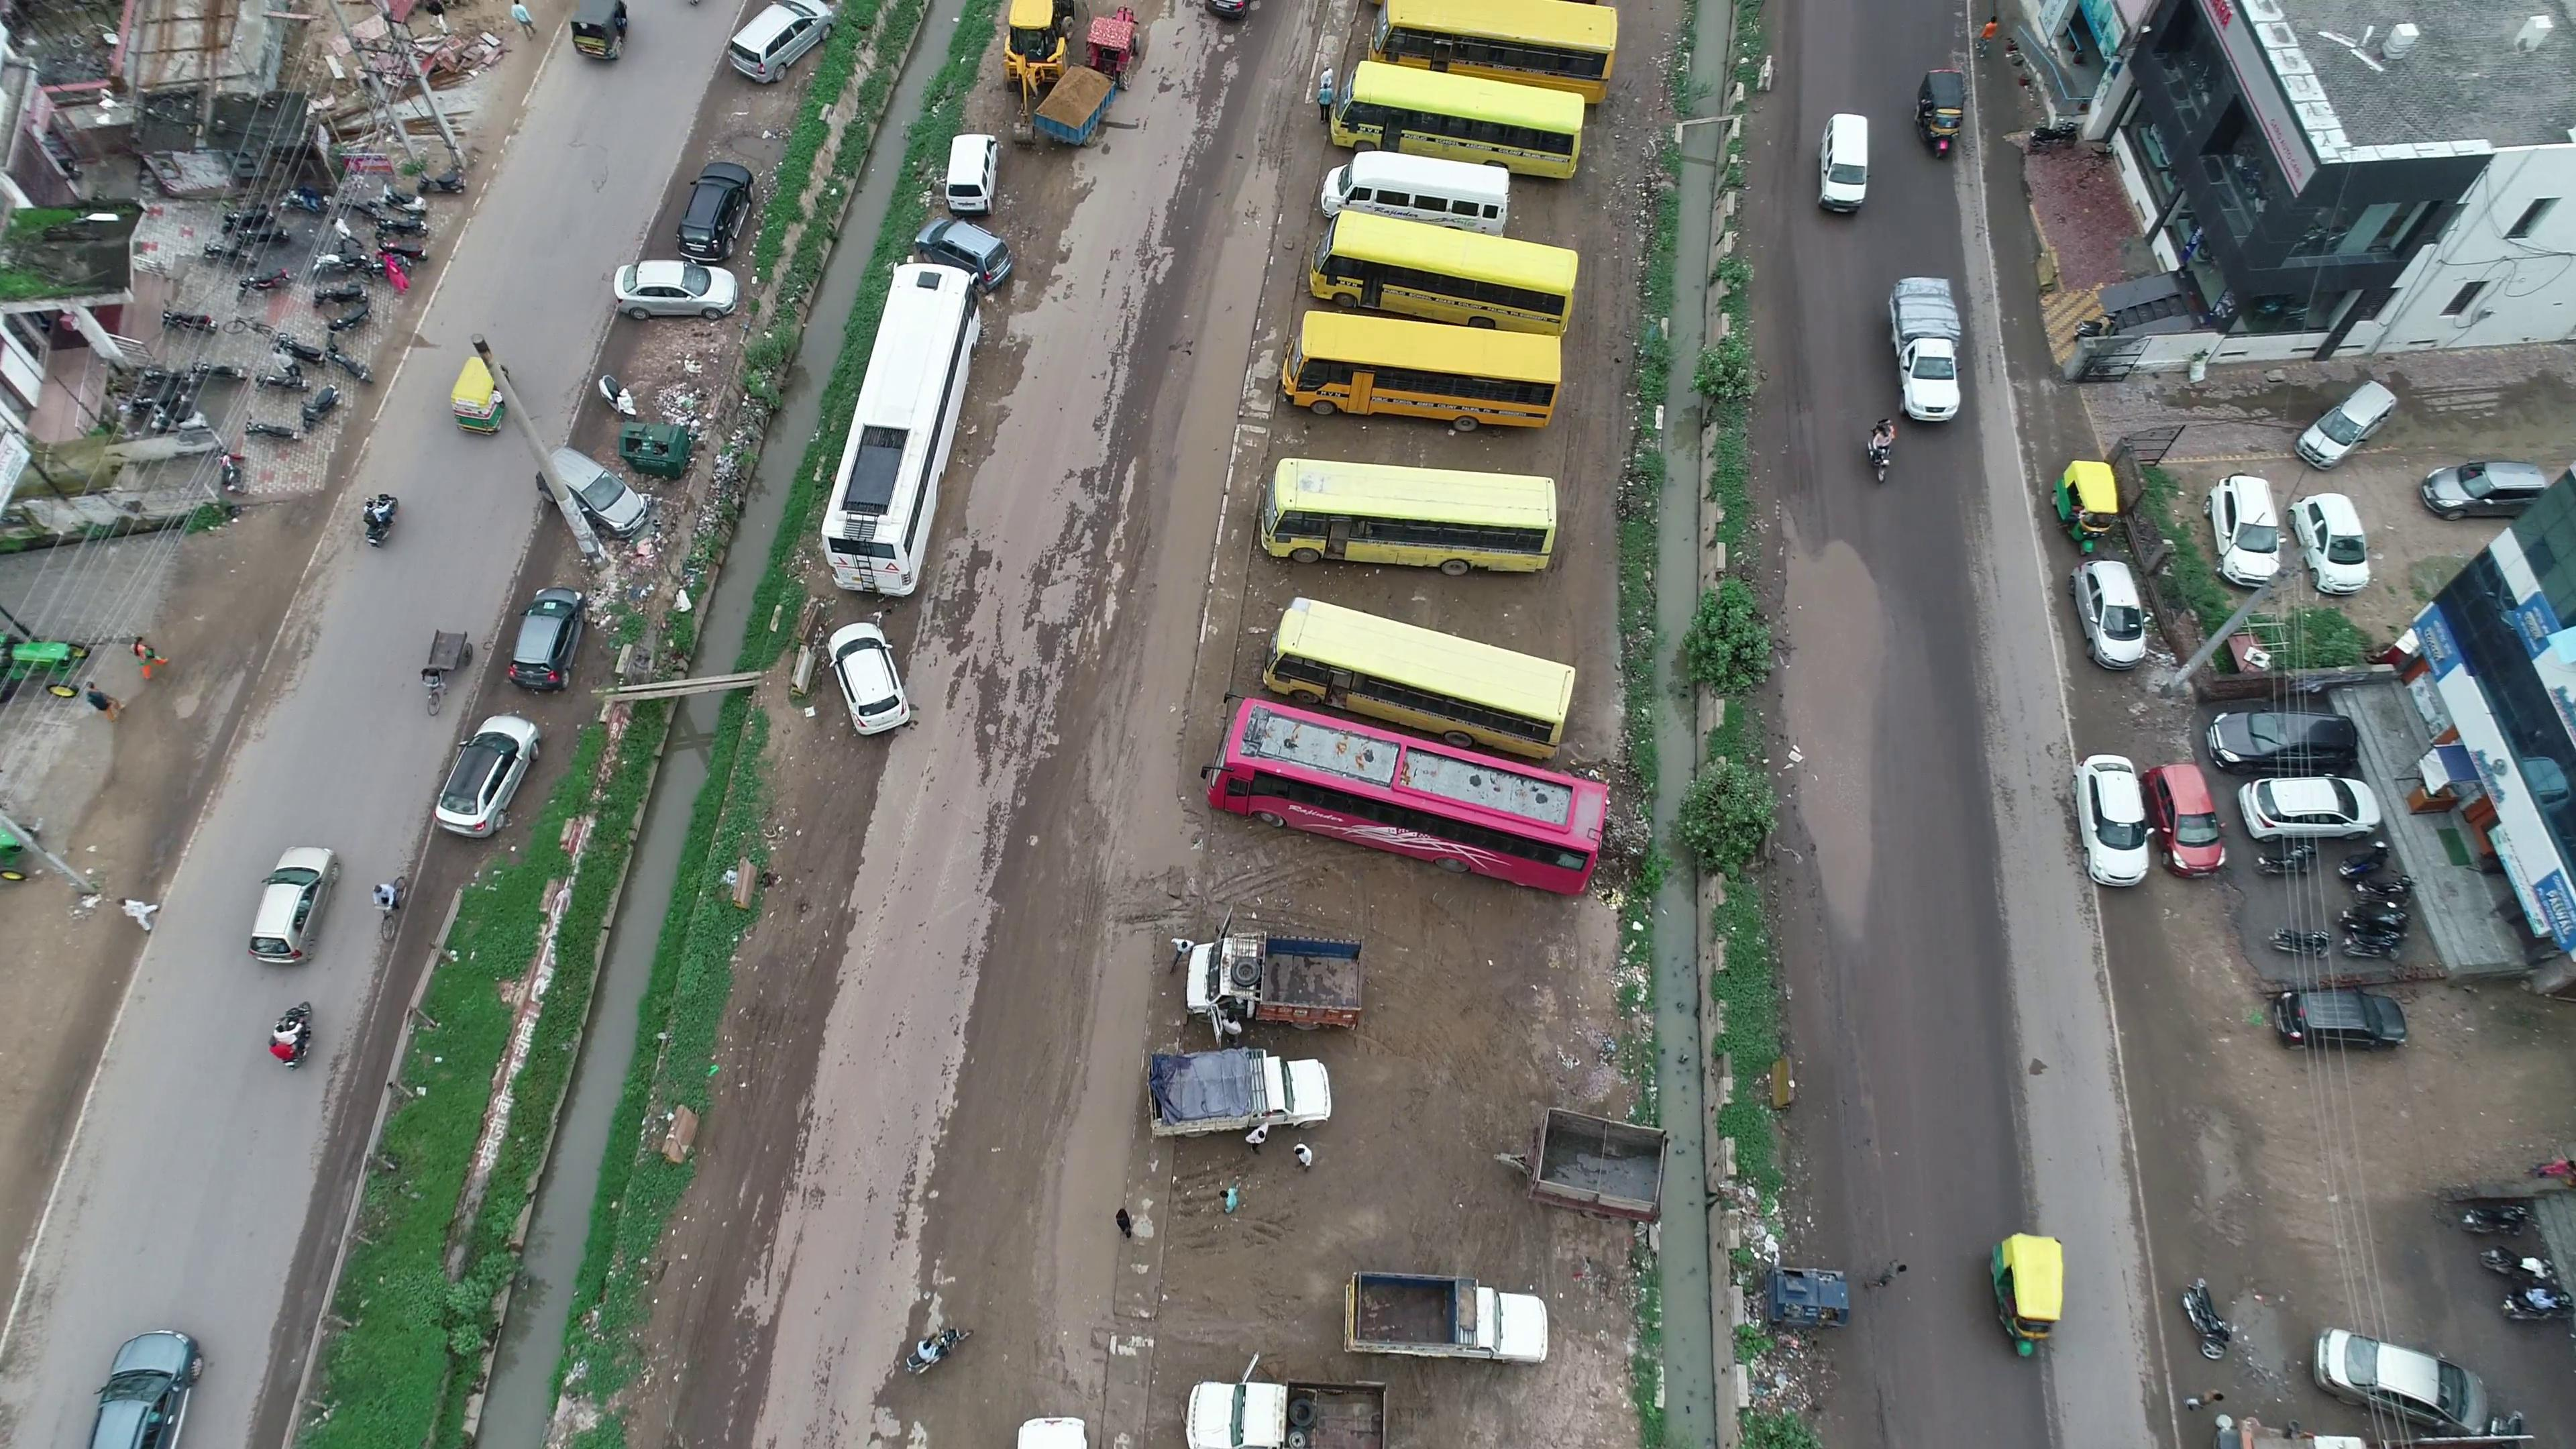Waterlogging: (1762, 517, 1909, 947)
